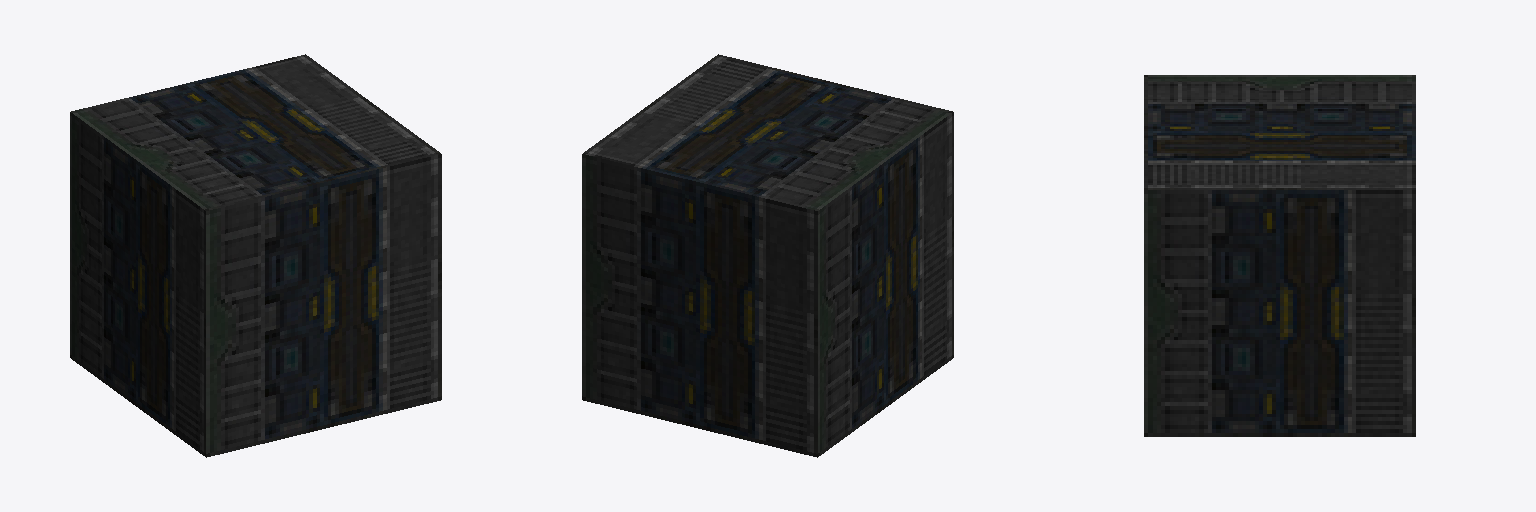
The picture shows the model from 3 angles: view 1: azimuth 30°, elevation 25°; view 2: azimuth 150°, elevation 25°; view 3: azimuth 270°, elevation 25°; orthographic projection.
Visible parts, largest first — view 1: crate1; view 2: crate1; view 3: crate1.
Boxes of the visible parts, x1=… form: crate1: x1=70, y1=54, x2=441, y2=457; crate1: x1=582, y1=54, x2=953, y2=457; crate1: x1=1144, y1=75, x2=1415, y2=436.
Size of the model in its own units: 1 by 1 by 1.
2 materials, 1 textured.